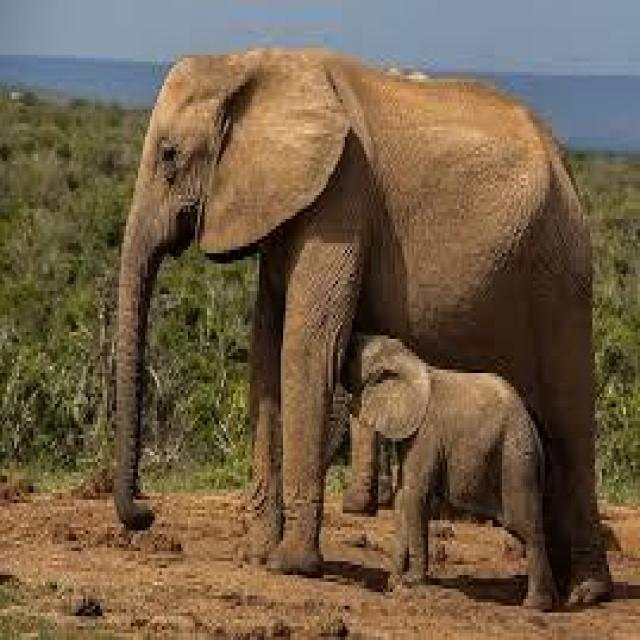Elephant: (114, 45, 612, 612), (343, 325, 552, 606)
